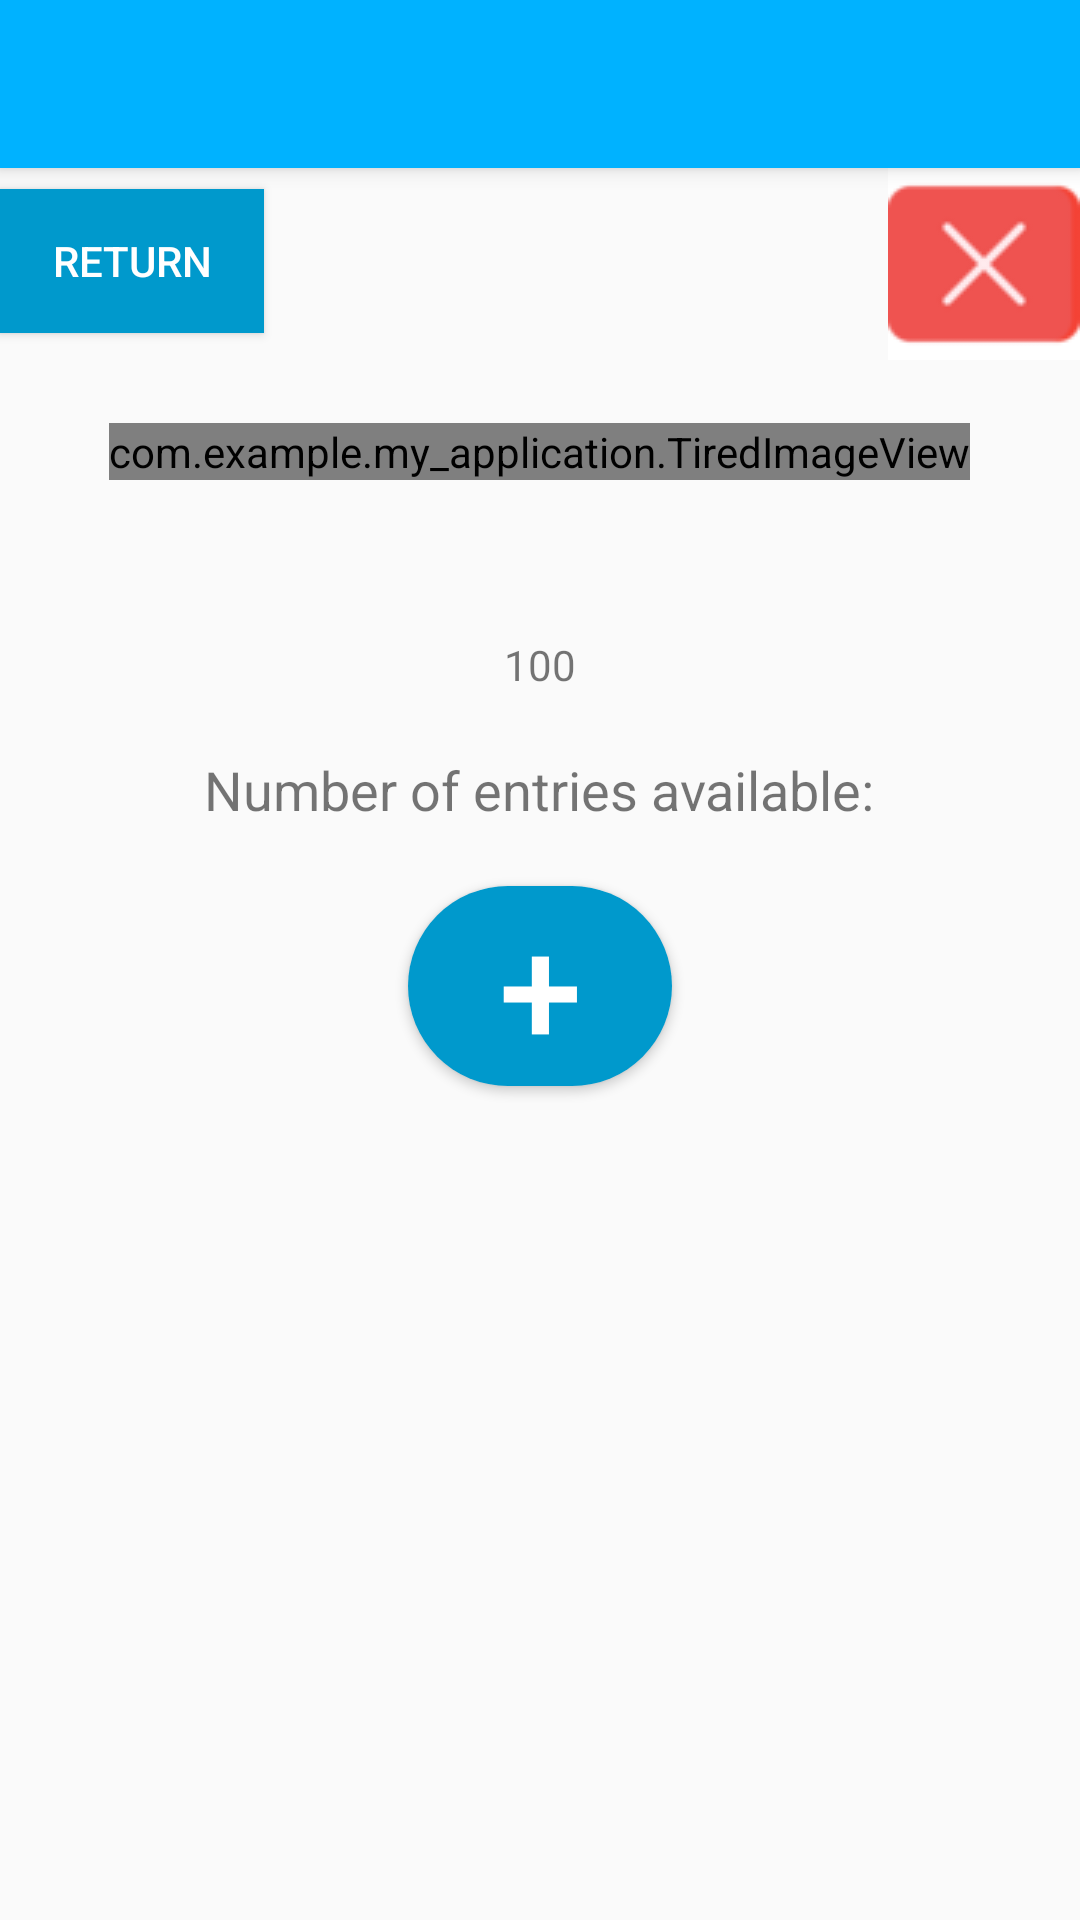

Where to tap for icons on this 1080x1920 app screen, as point (x, y):
exit: point (984, 264)
